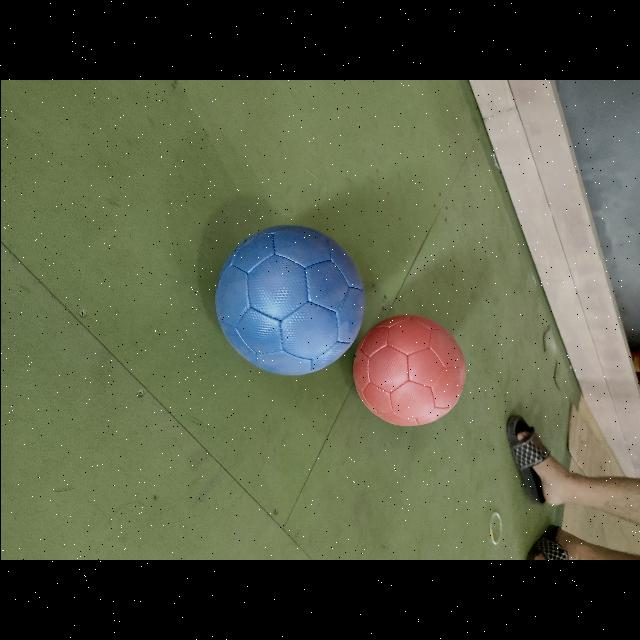B: (215, 225, 364, 375)
R: (353, 315, 465, 426)
